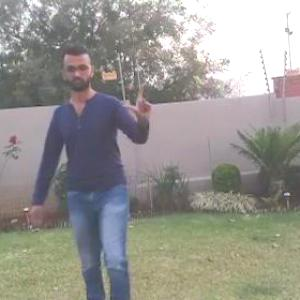land_hand: (119, 79, 156, 119)
